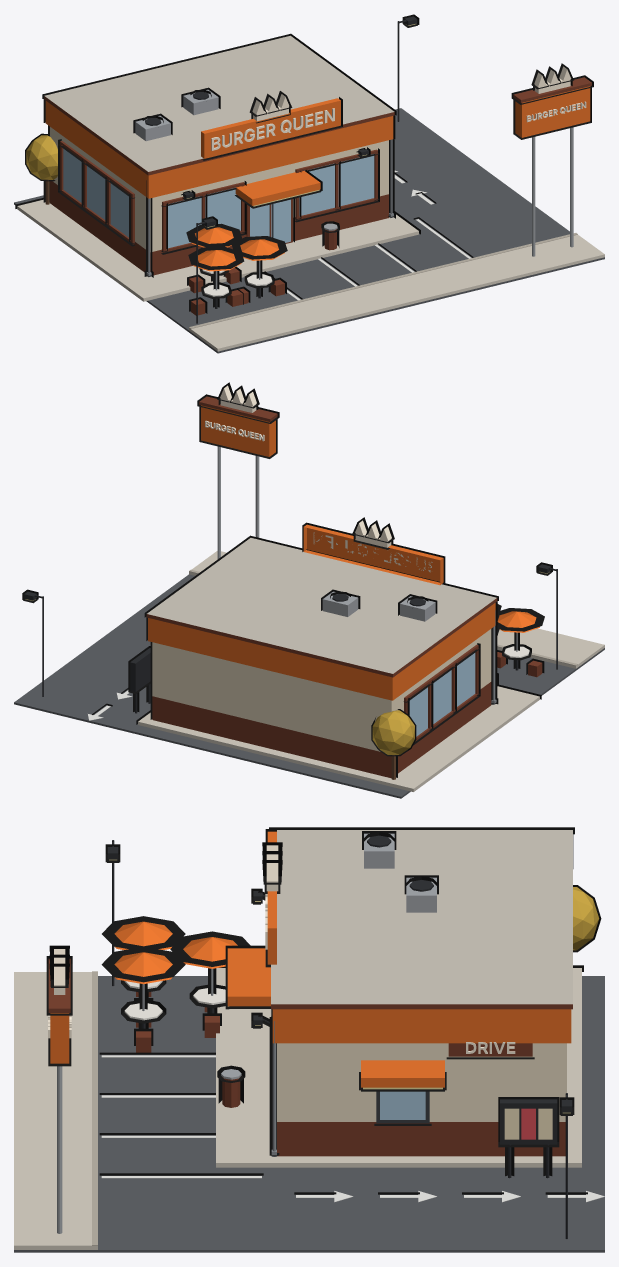
File: FastFood_burger_queen_1_1.fbx
3 renders of one model, top to bottom at view 1: azimuth 30°, elevation 25°; view 2: azimuth 150°, elevation 25°; view 3: azimuth 270°, elevation 25°, orthographic. The views are drawn at different scales.
Visible parts, largest first — view 1: FastFood_burger_queen_1_1; view 2: FastFood_burger_queen_1_1; view 3: FastFood_burger_queen_1_1.
Part boxes in pixels (left/top/right/bottom): FastFood_burger_queen_1_1: left=14, top=14, right=604, bottom=353; FastFood_burger_queen_1_1: left=14, top=382, right=604, bottom=798; FastFood_burger_queen_1_1: left=14, top=827, right=604, bottom=1252.
Size of the model in its own units: 17.35 by 7.88 by 15.5.
